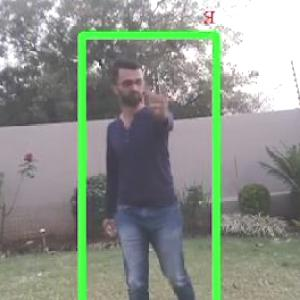takeoff-hand: (143, 77, 178, 123)
